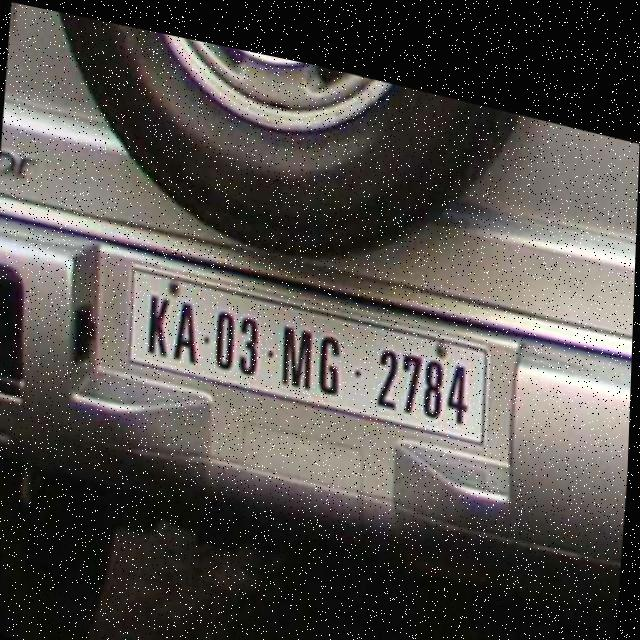license_plate: (124, 259, 487, 421)
